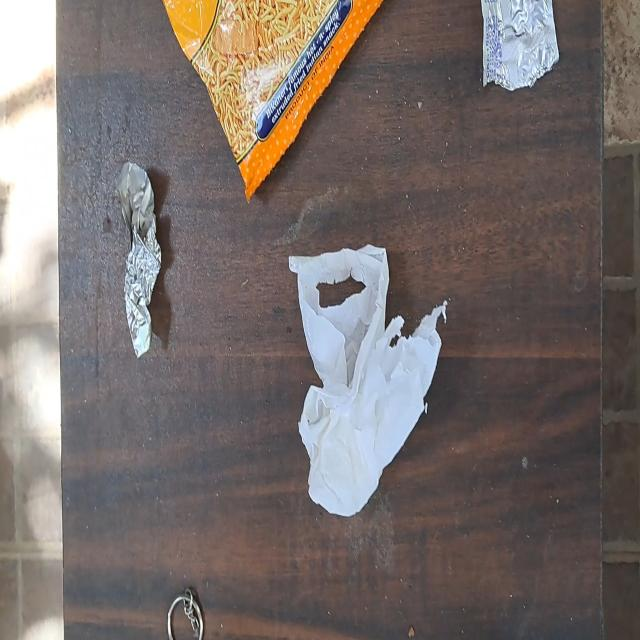Anorganik: (163, 2, 380, 204), (118, 159, 160, 359), (477, 0, 559, 93), (169, 588, 203, 640)
Organik: (289, 240, 448, 517)
